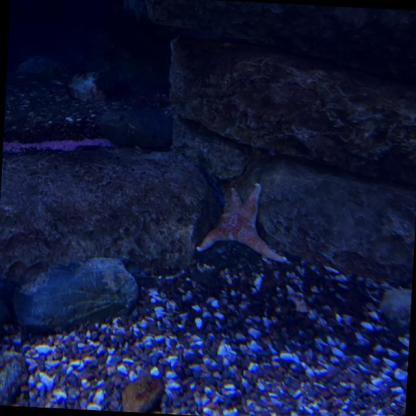starfish: (194, 182, 292, 259)
